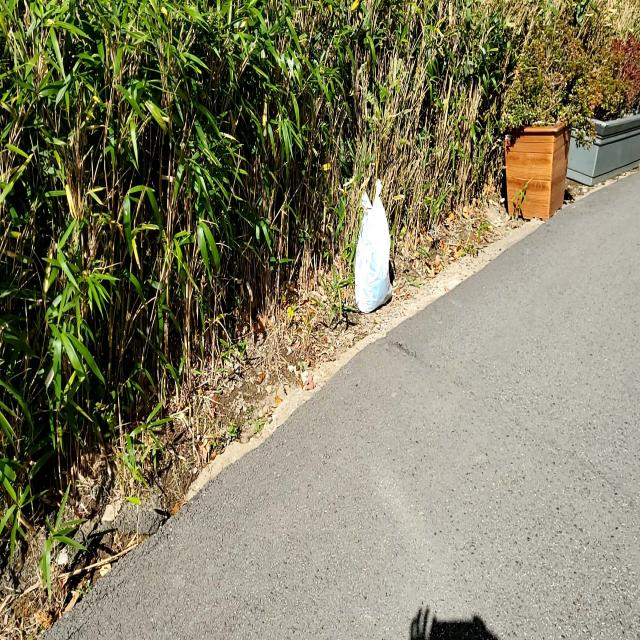garbage bag: (352, 176, 393, 314)
